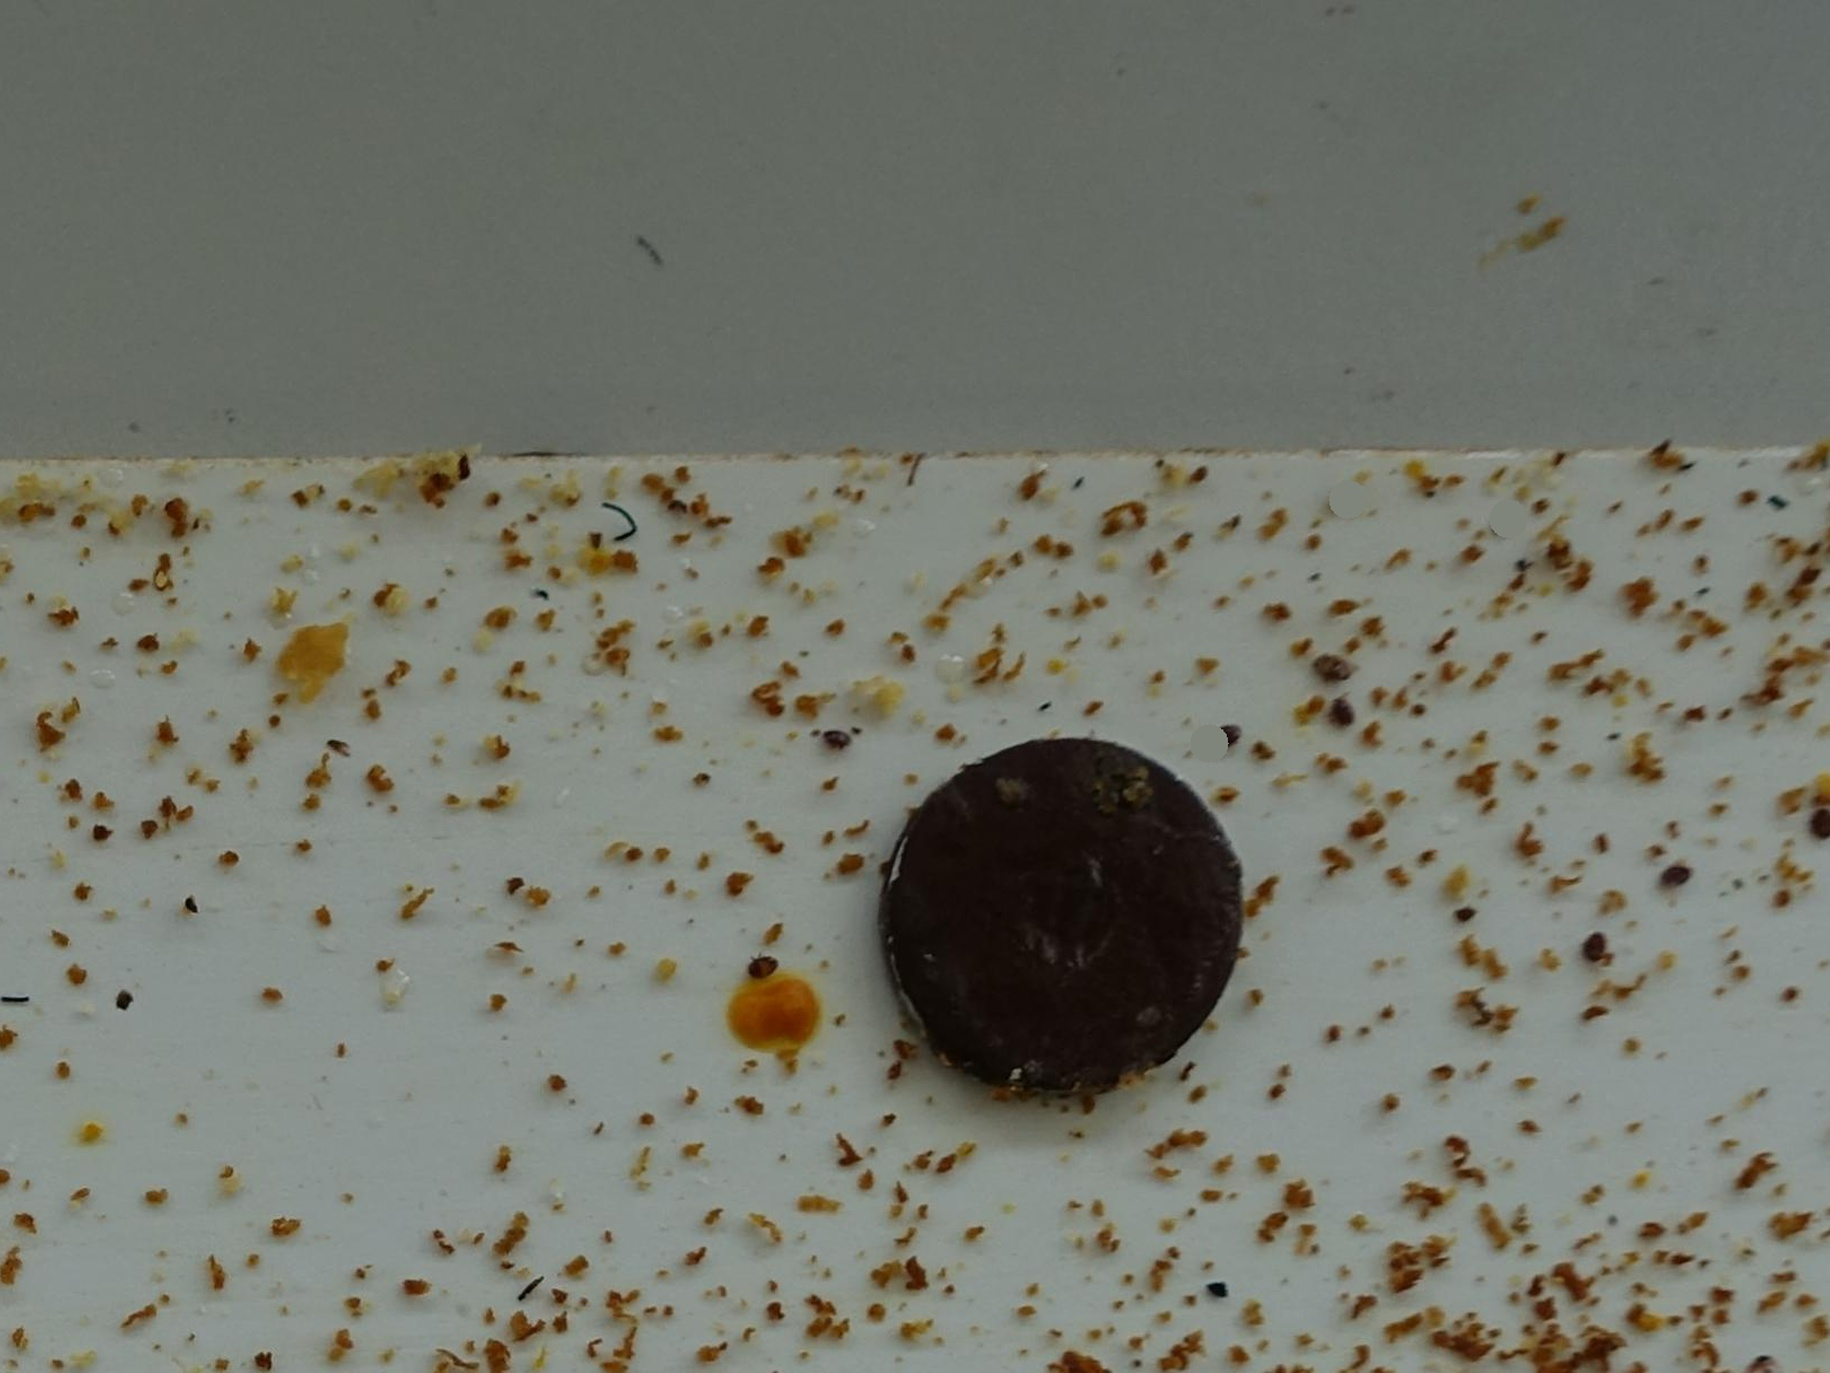Varroa: (816, 718, 857, 759), (1325, 694, 1366, 733), (1586, 926, 1612, 950), (1664, 860, 1689, 886), (1221, 720, 1242, 746), (748, 958, 769, 974)
